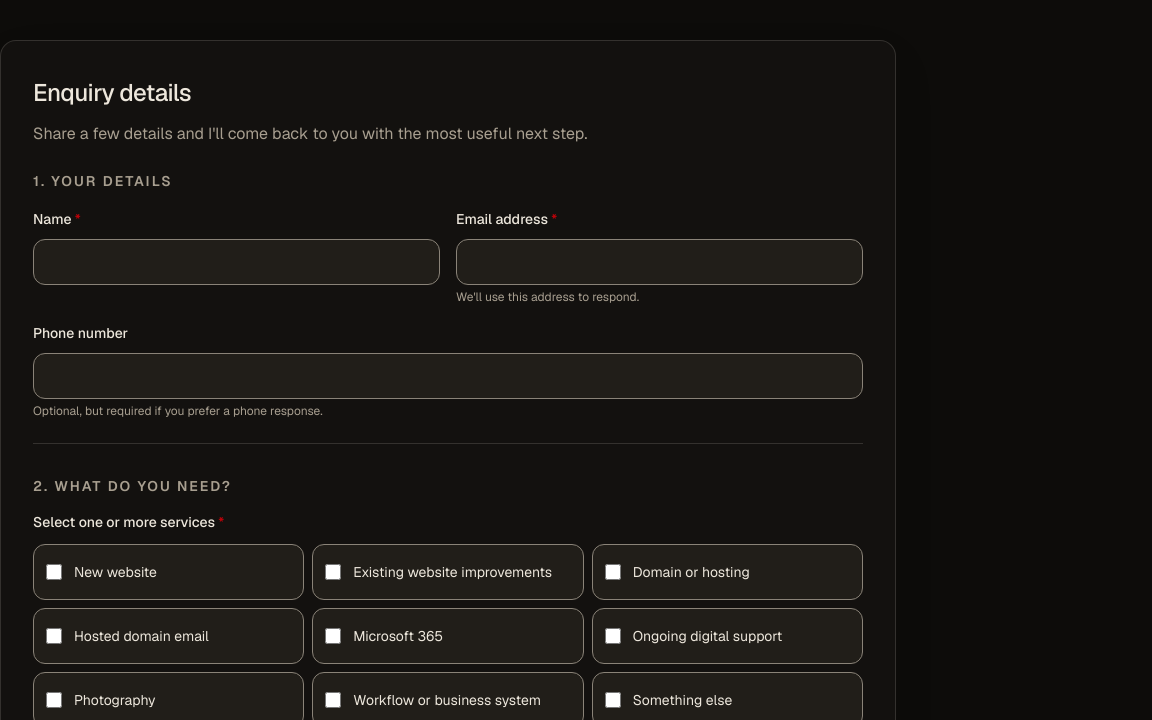
Test: ContactEnquiryForm error summary focus targets › formats a valid 9-digit mobile on blur and clears phone error
Type "123" into the field labelled "Phone number". click: (448, 376)
box: [33,353,863,399]
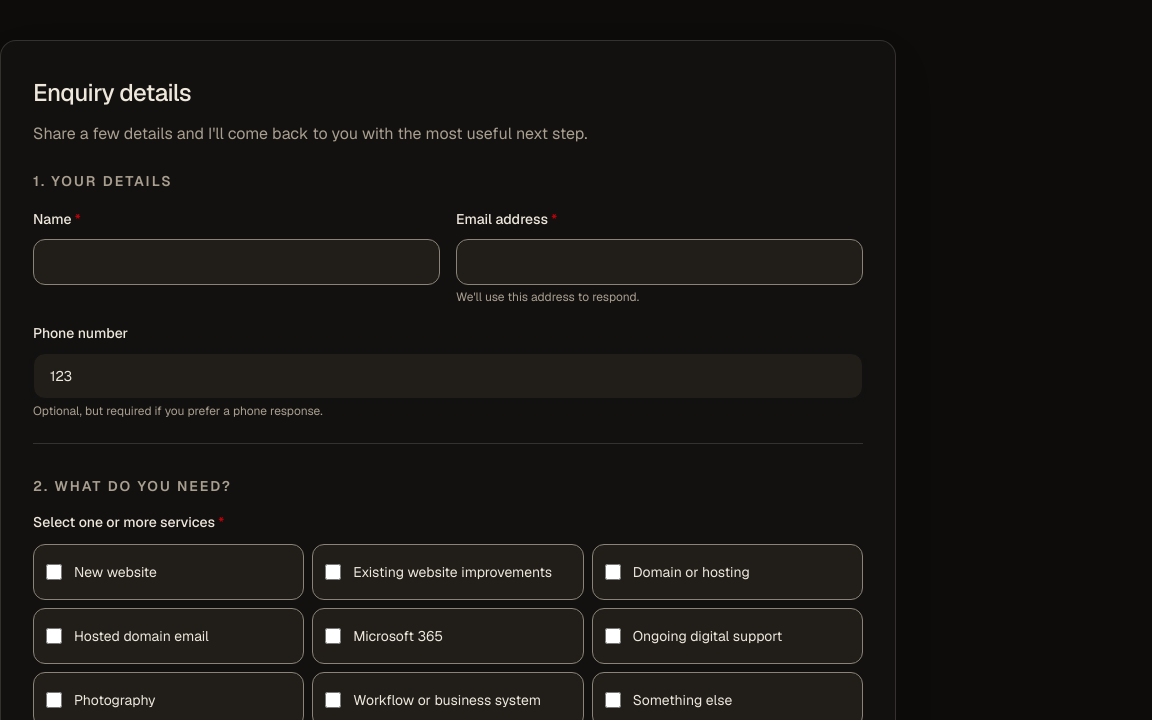
Press Tab
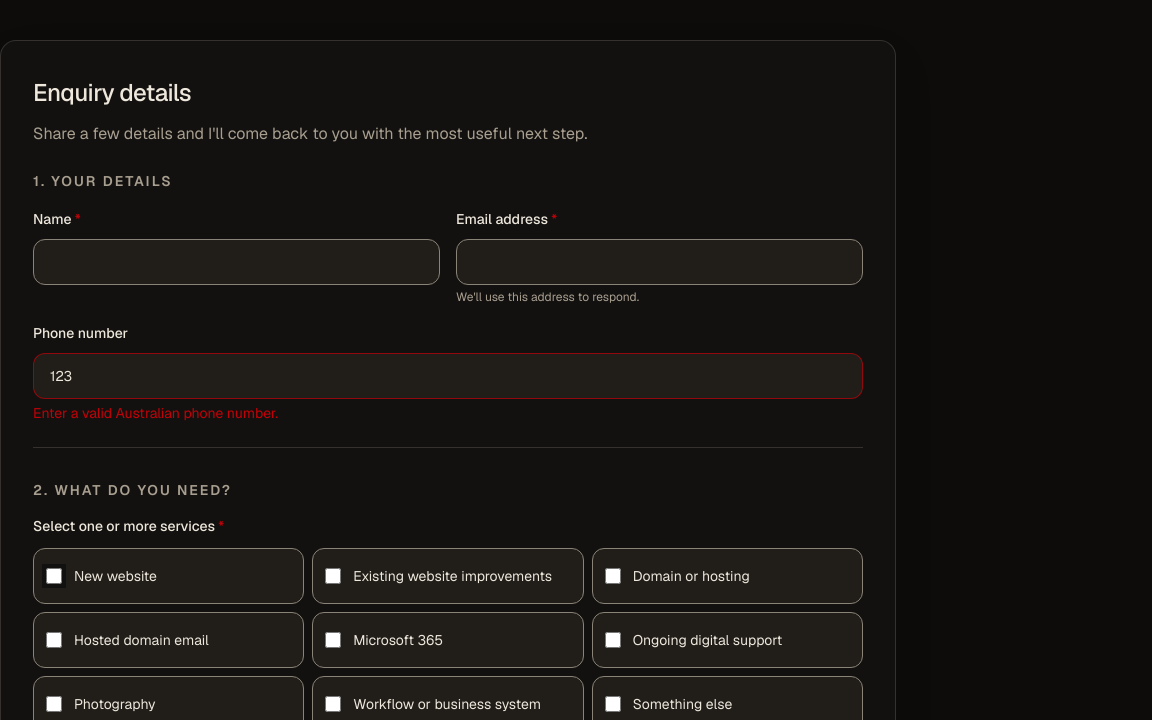
Now the text "Enter a valid Australian phone number." is shown, box [33,404,278,422]
Replace the text in the field labelled "Phone number" with "424961192". click: (448, 376)
box: [33,353,863,399]
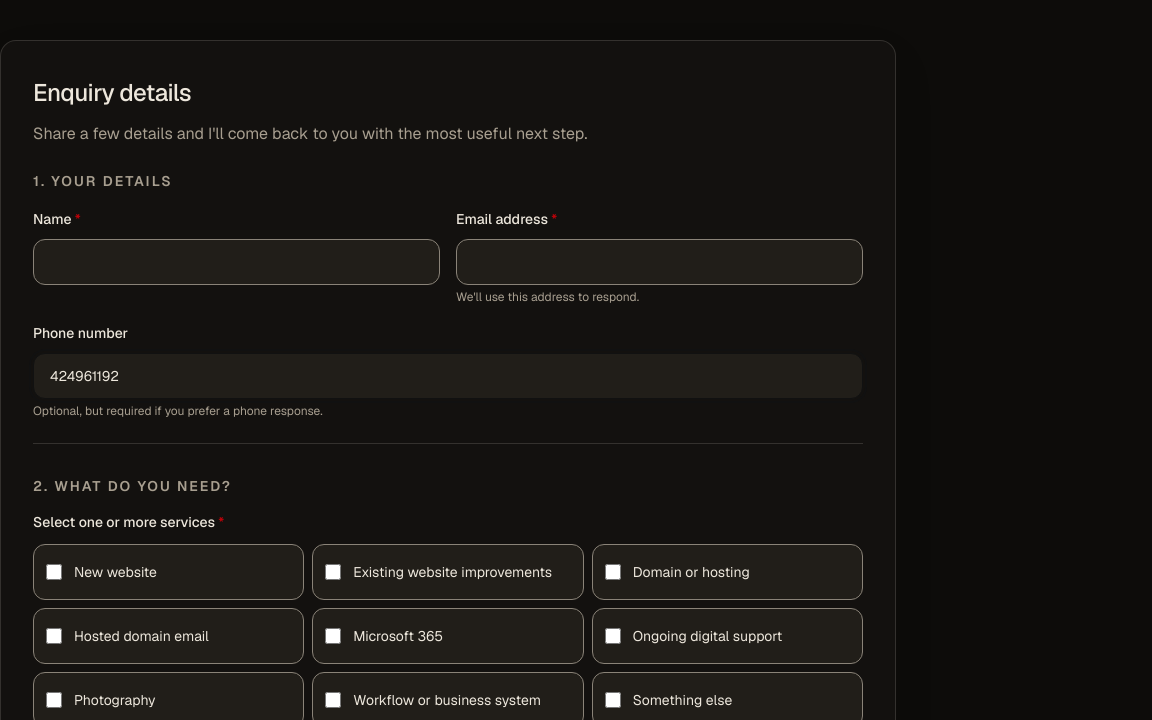
Press Tab
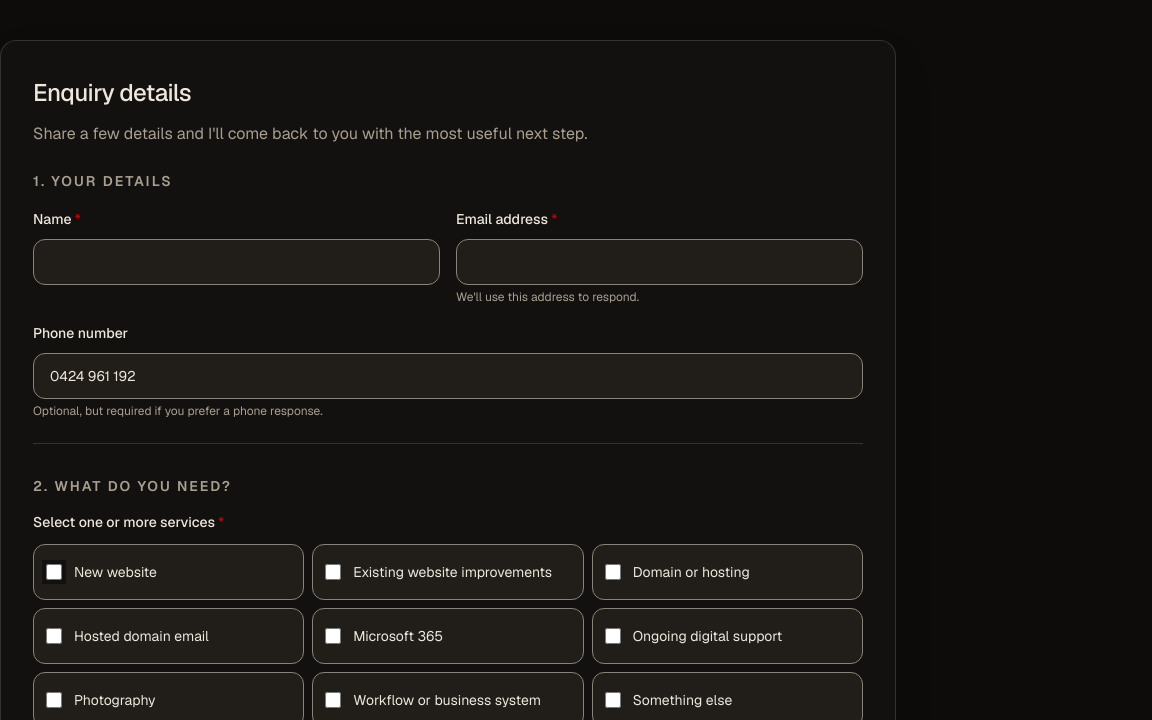
Expected: the text "Enter a valid Australian phone number." is not shown
Now the field labelled "Phone number" holds "0424 961 192", box [33,353,863,399]
